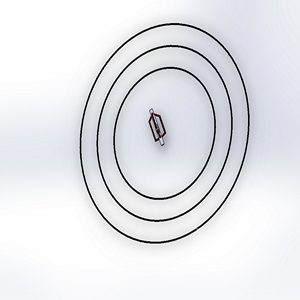circle: (75, 16, 257, 251)
submarine: (143, 102, 175, 155)
